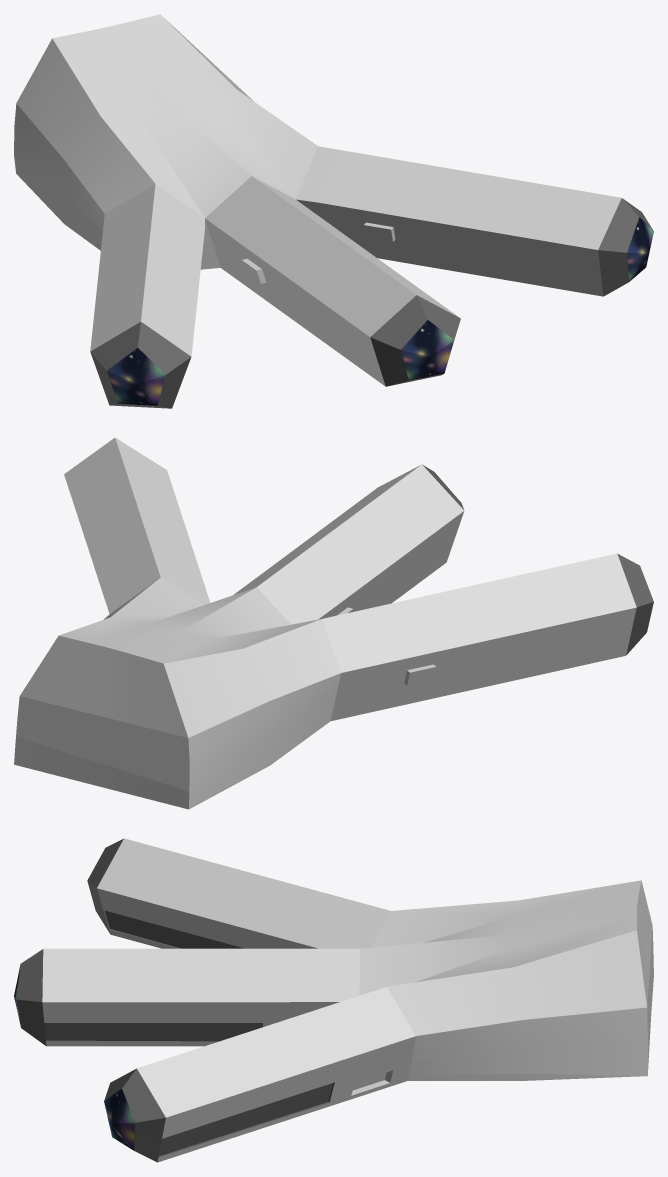
File: hub v2 textured.fbx
3 views of the same model, one above another, from view 1: azimuth 30°, elevation 25°; view 2: azimuth 150°, elevation 25°; view 3: azimuth 270°, elevation 25° (orthographic). The views are drawn at different scales.
Parts seen in each view (by area): view 1: pasted__pasted__pPlatonic1; view 2: pasted__pasted__pPlatonic1; view 3: pasted__pasted__pPlatonic1.
Boxes of the visible parts, bbox=[...] form: pasted__pasted__pPlatonic1: bbox=[14, 14, 653, 408]; pasted__pasted__pPlatonic1: bbox=[14, 437, 653, 809]; pasted__pasted__pPlatonic1: bbox=[14, 838, 653, 1162].
Bounding box in the file's own units: 293 × 66.51 × 301.
Materials: 11 (3 with a texture image).
